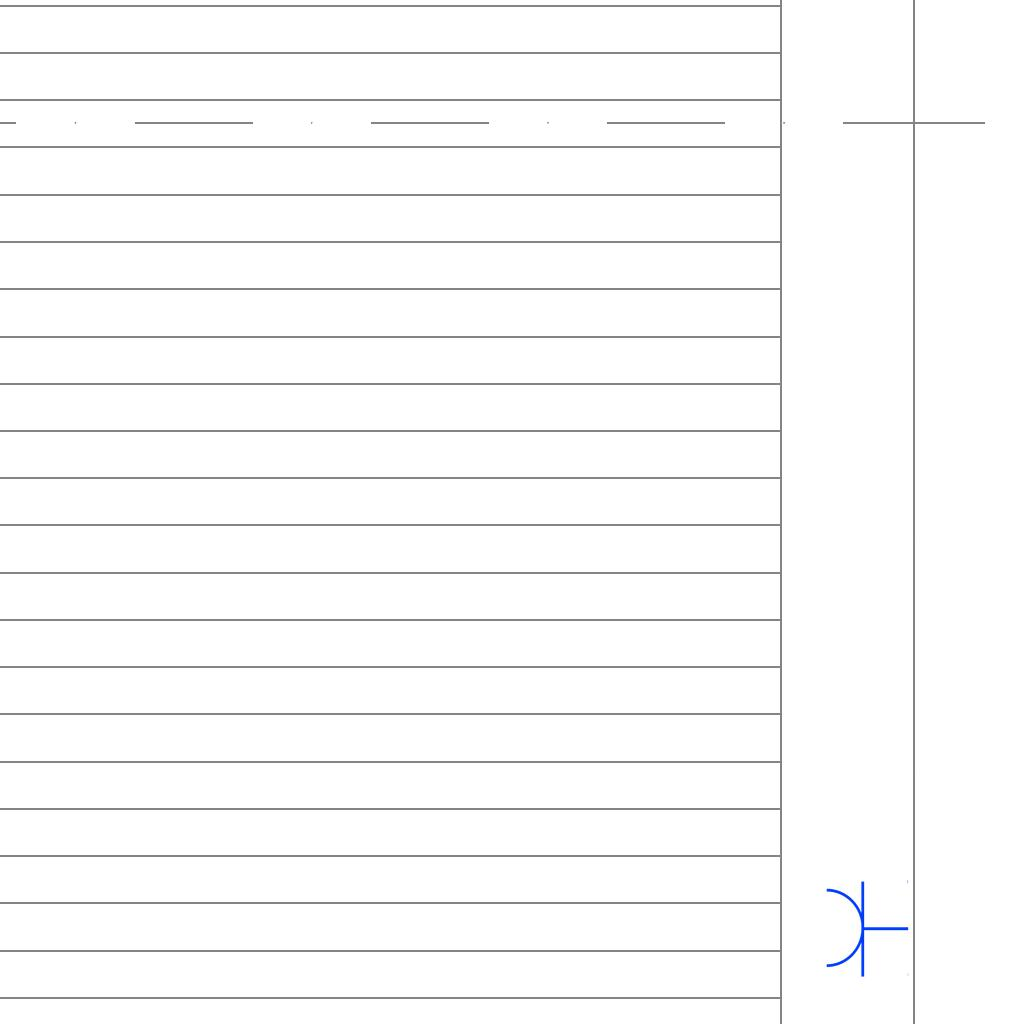Schukosteckdose_einfach: (822, 878, 909, 978)
